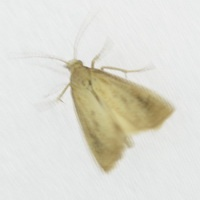insect: (35, 47, 173, 170)
